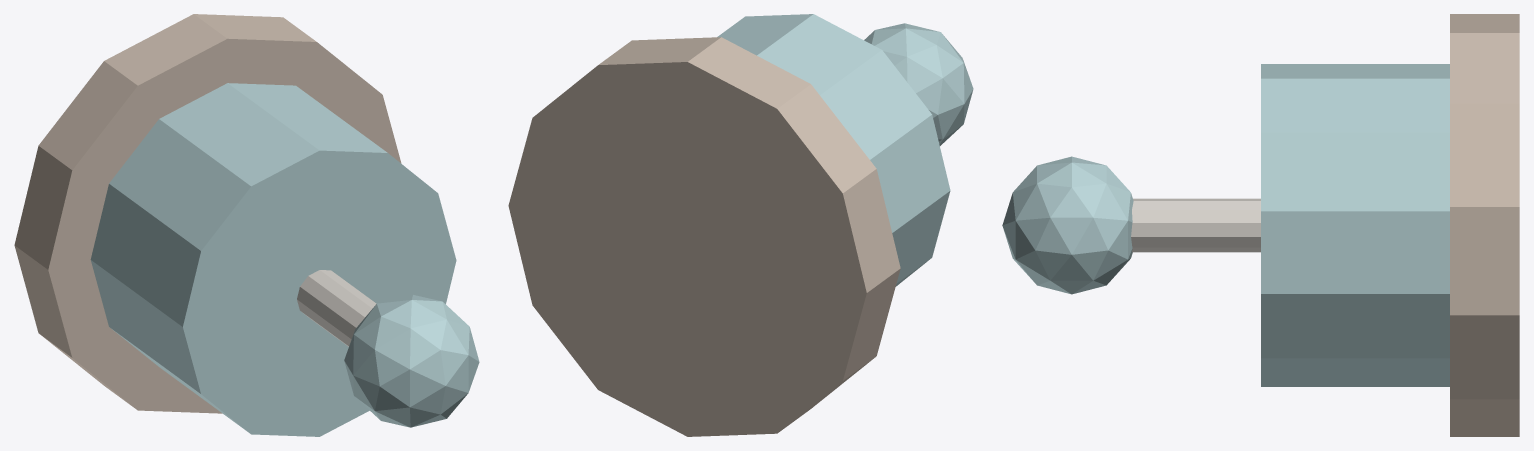
File: fountain.glb
3 views of the same model, side by side, from view 1: azimuth 30°, elevation 25°; view 2: azimuth 150°, elevation 25°; view 3: azimuth 270°, elevation 25° (orthographic). The views are drawn at different scales.
Visible parts, largest first — view 1: water_1, fountain_base_0, water_top_3, spout_2; view 2: fountain_base_0, water_1, water_top_3; view 3: water_1, fountain_base_0, water_top_3, spout_2.
Boxes of the visible parts, bbox=[...] form: water_1: bbox=[90, 83, 456, 436]; fountain_base_0: bbox=[14, 14, 401, 413]; water_top_3: bbox=[344, 295, 479, 427]; spout_2: bbox=[297, 270, 376, 346]; fountain_base_0: bbox=[508, 37, 900, 436]; water_1: bbox=[717, 14, 950, 286]; water_top_3: bbox=[864, 23, 973, 145]; water_1: bbox=[1261, 64, 1449, 386]; fountain_base_0: bbox=[1450, 14, 1519, 436]; water_top_3: bbox=[1002, 156, 1133, 294]; spout_2: bbox=[1131, 198, 1260, 252].
Bounding box in the file's own units: 1.1 × 1.1 × 1.34.
